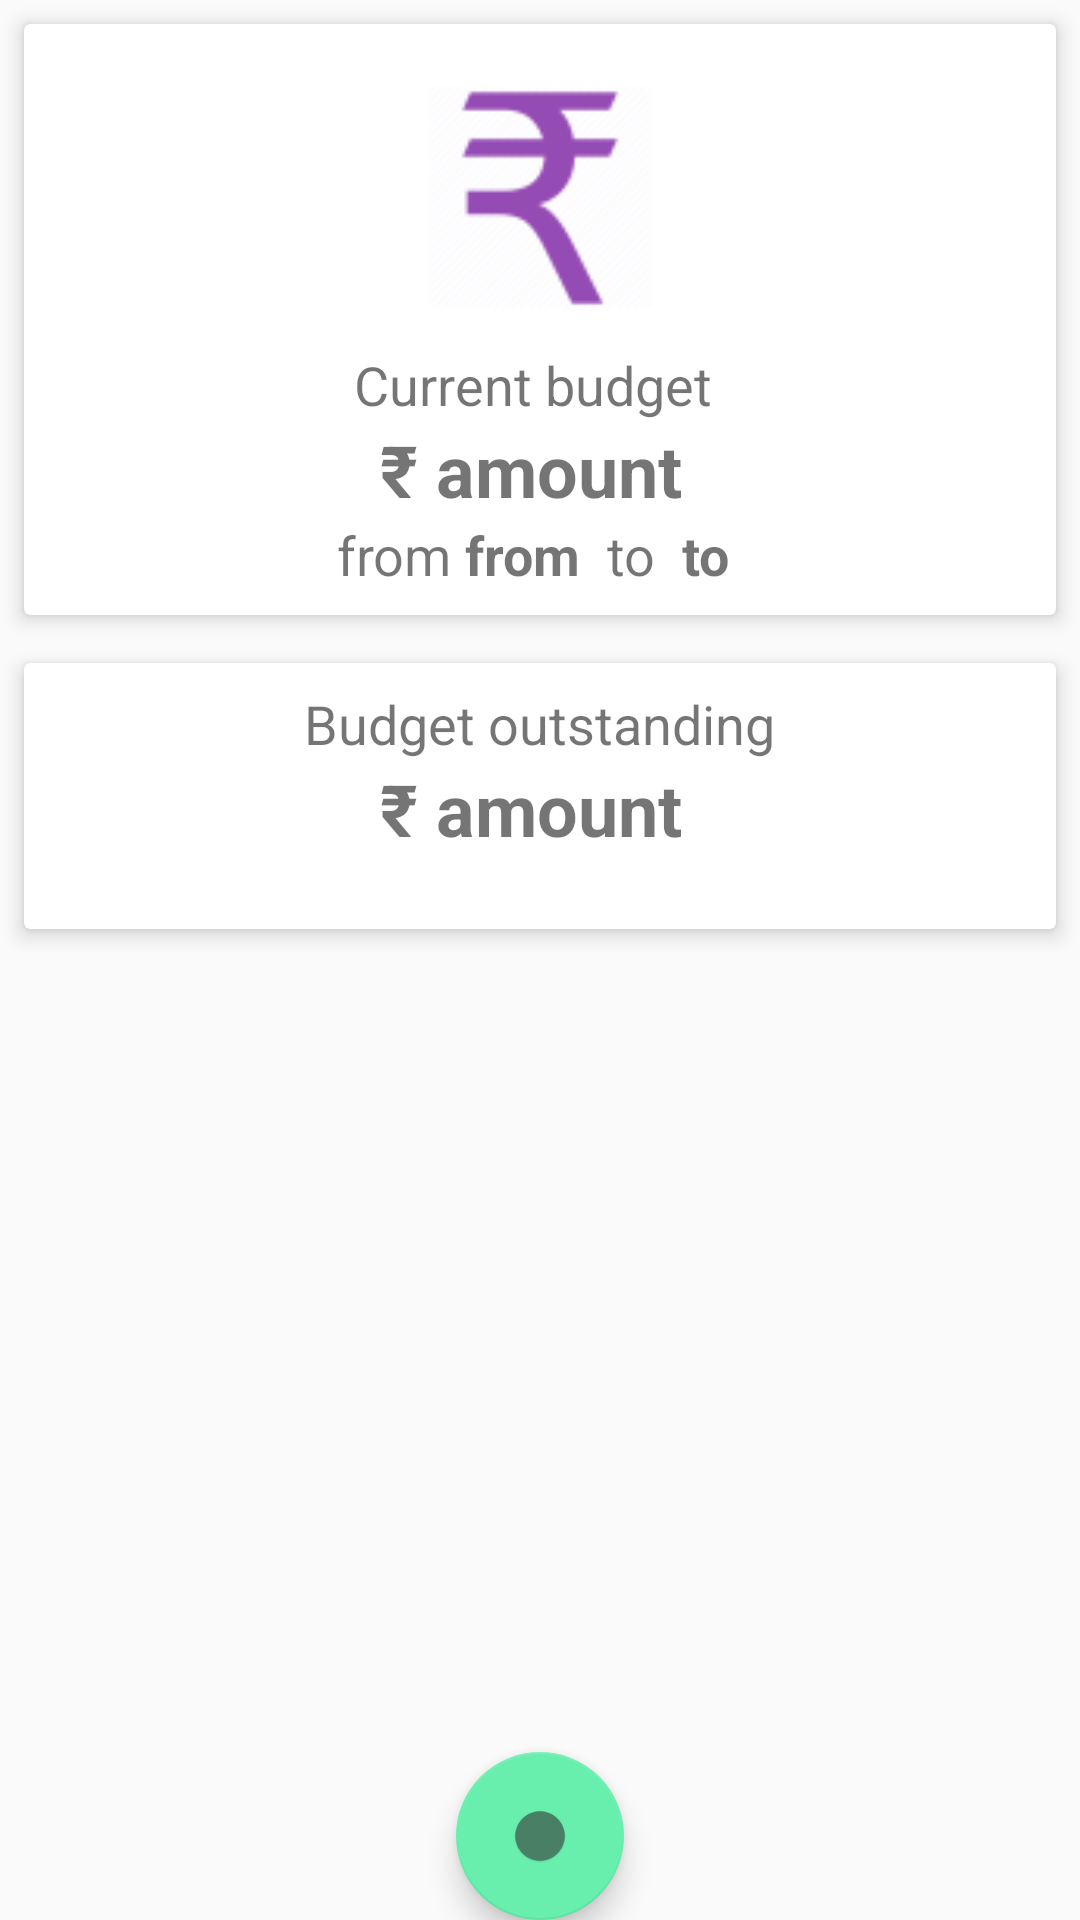

Icons on this 1080*1920 Android screen, each with its box as (x1, y1, x2, y2):
rupee: (461, 91, 619, 305)
